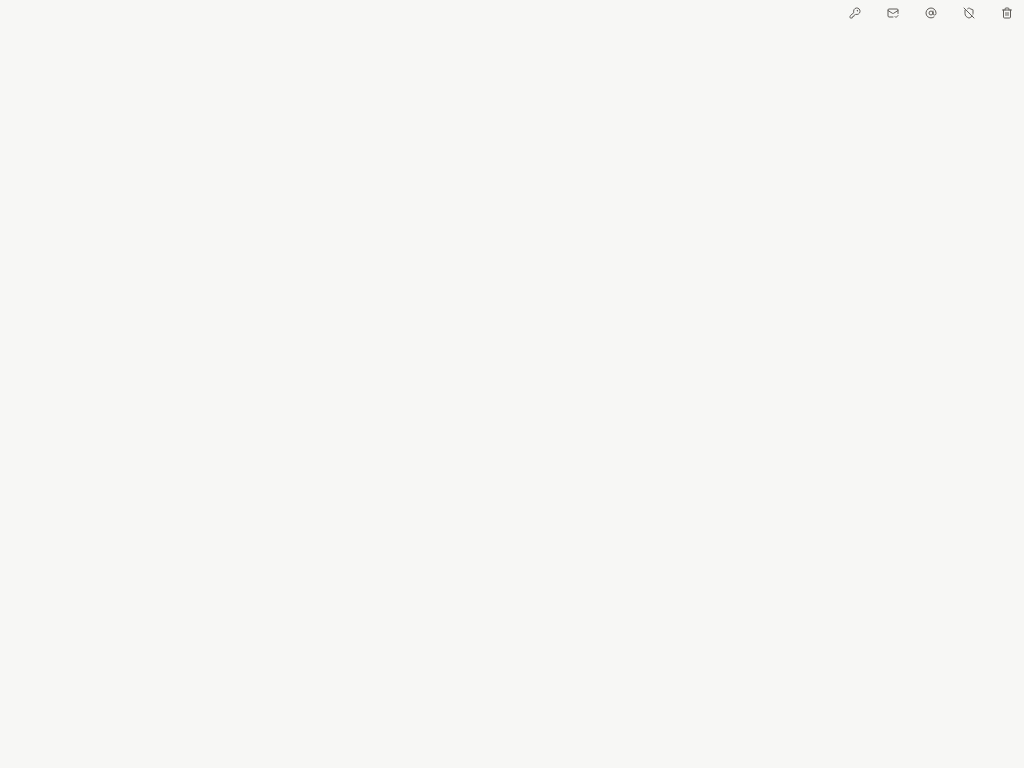
UserRowActions: change email › names the consequences, including the re-link that is not automatic
Step 1. Click the button named "change email for tester@example.com" → [931, 13], box [914,0,948,26]
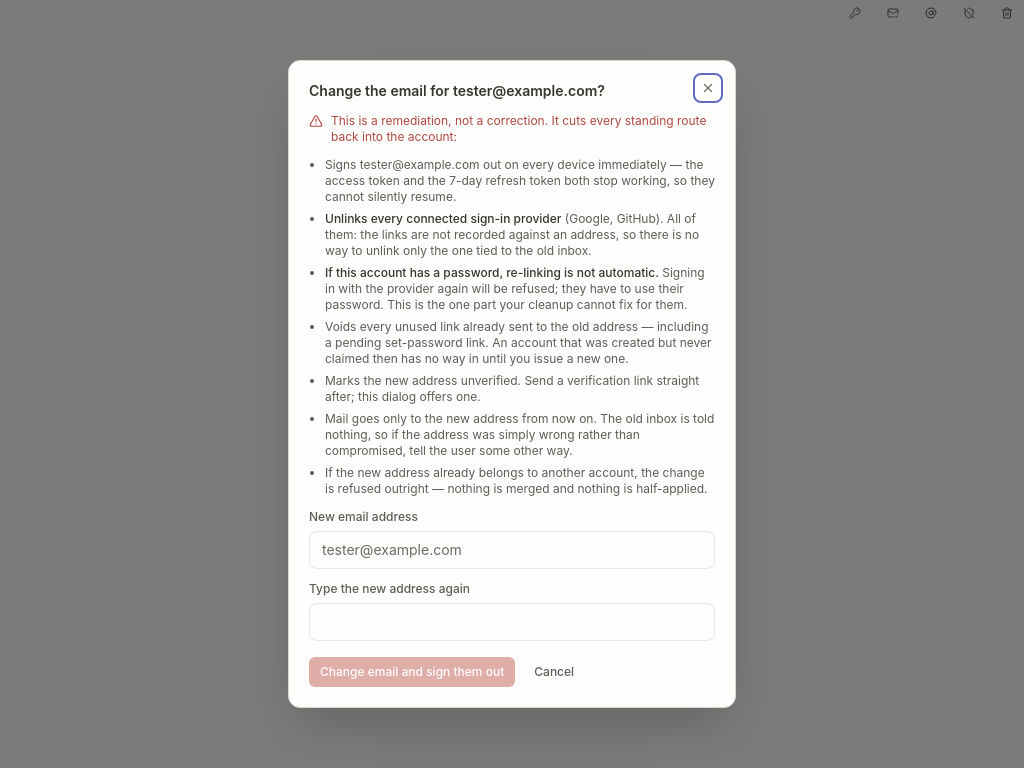
Now the dialog shows "signs tester@example.com out on every device", box [325,157,715,204]
Now the dialog shows "7-day refresh token", box [325,157,715,204]
Now the dialog shows "unlinks every connected sign-in provider", box [325,211,561,226]
